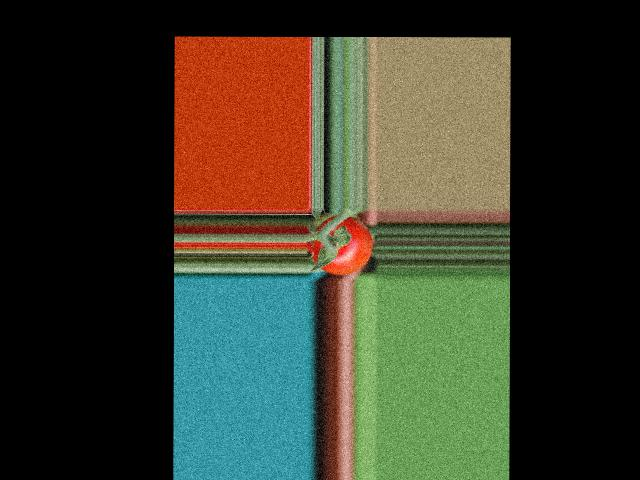tomato: (307, 215, 372, 275)
